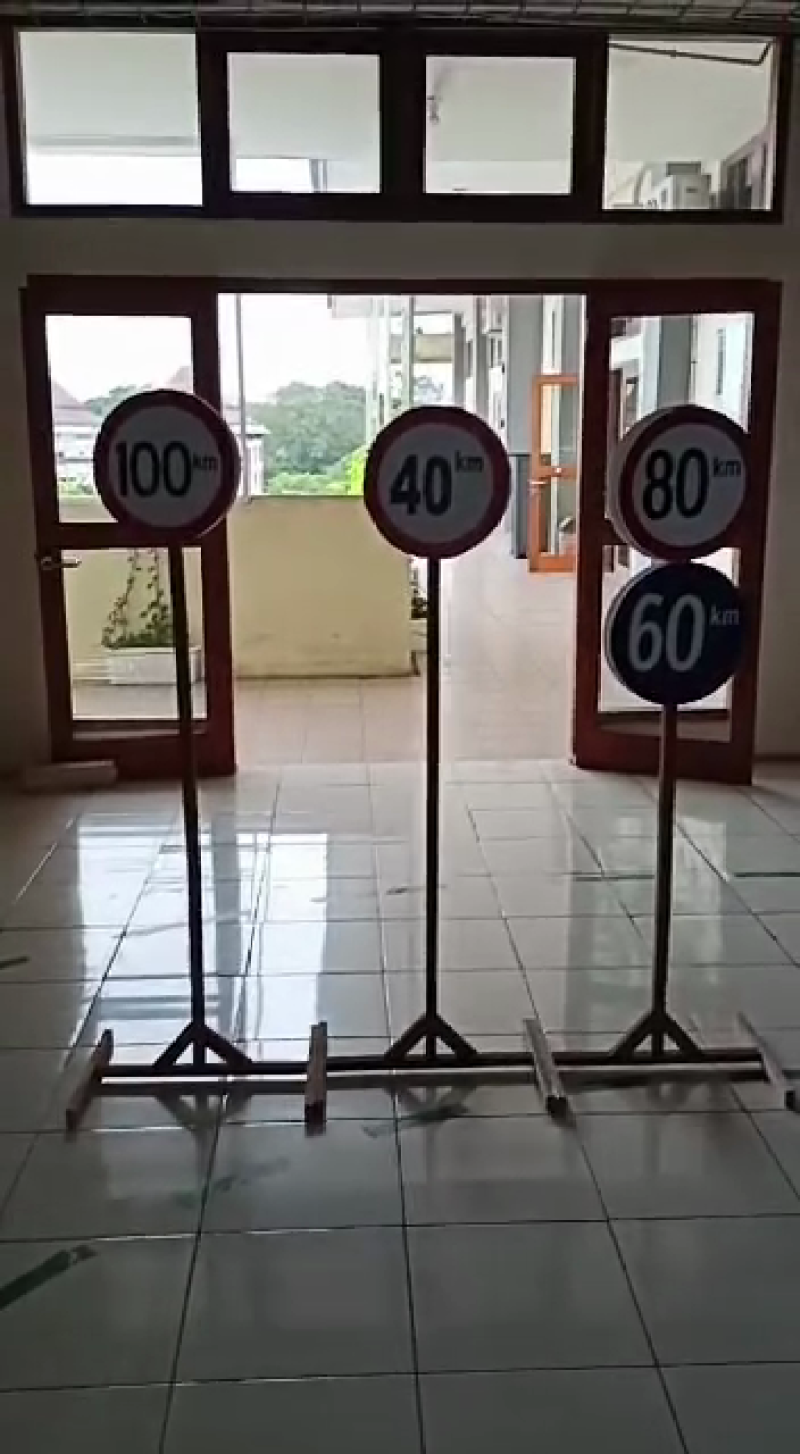batas maksimal 100kmperjam: (85, 385, 253, 542)
batas maksimal 40kmperjam: (359, 392, 507, 561)
batas maksimal 80kmperjam minimal 60kmperjam: (592, 387, 774, 724)
